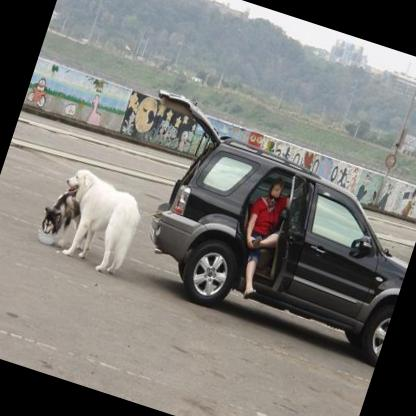Great_Pyrenees: (43, 162, 149, 278)
